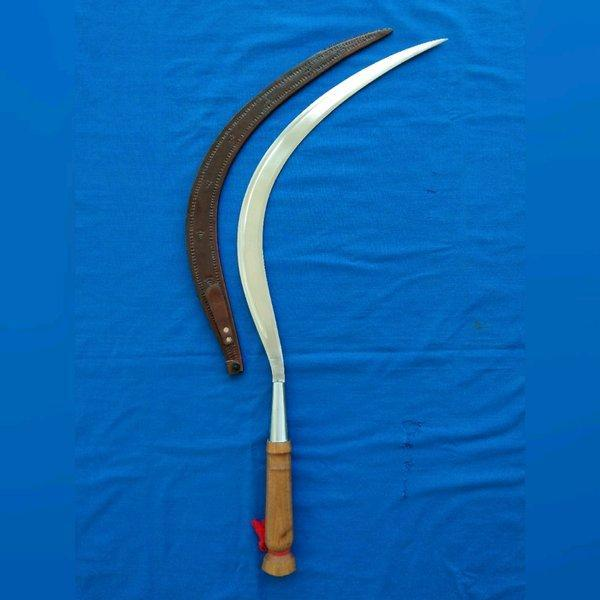foice: (229, 23, 448, 582)
